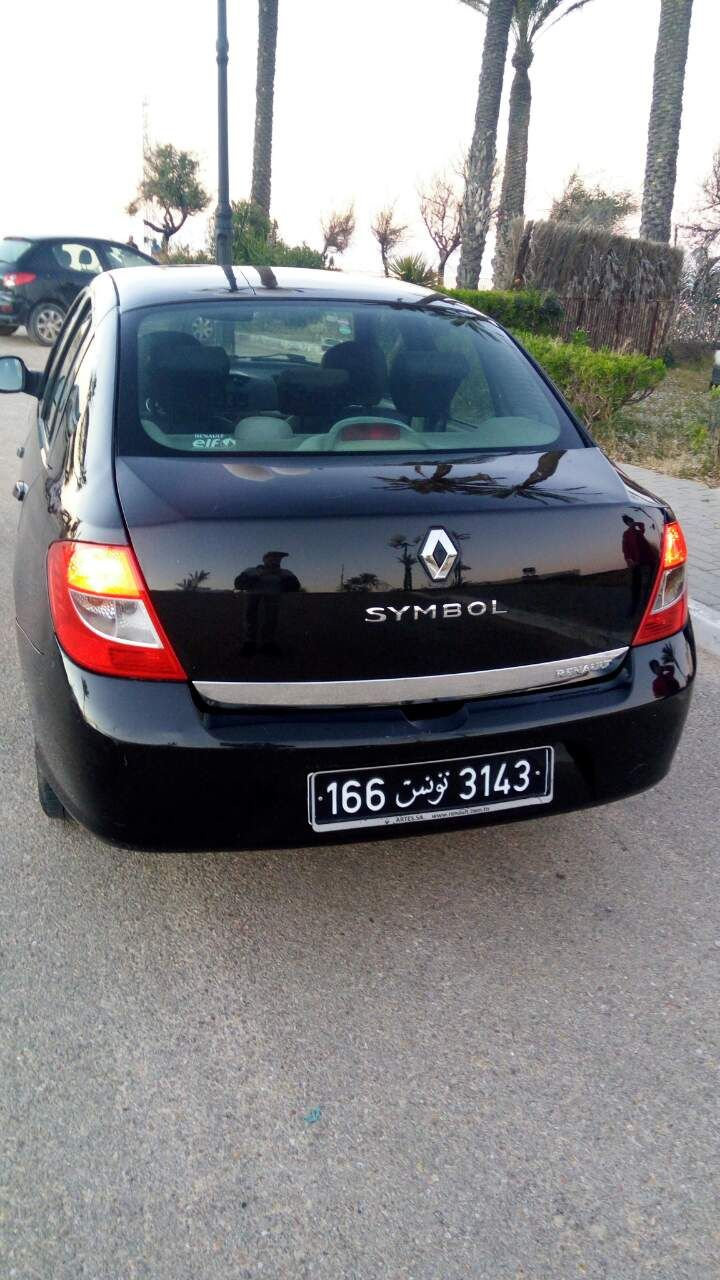LP: (314, 748, 553, 823)
